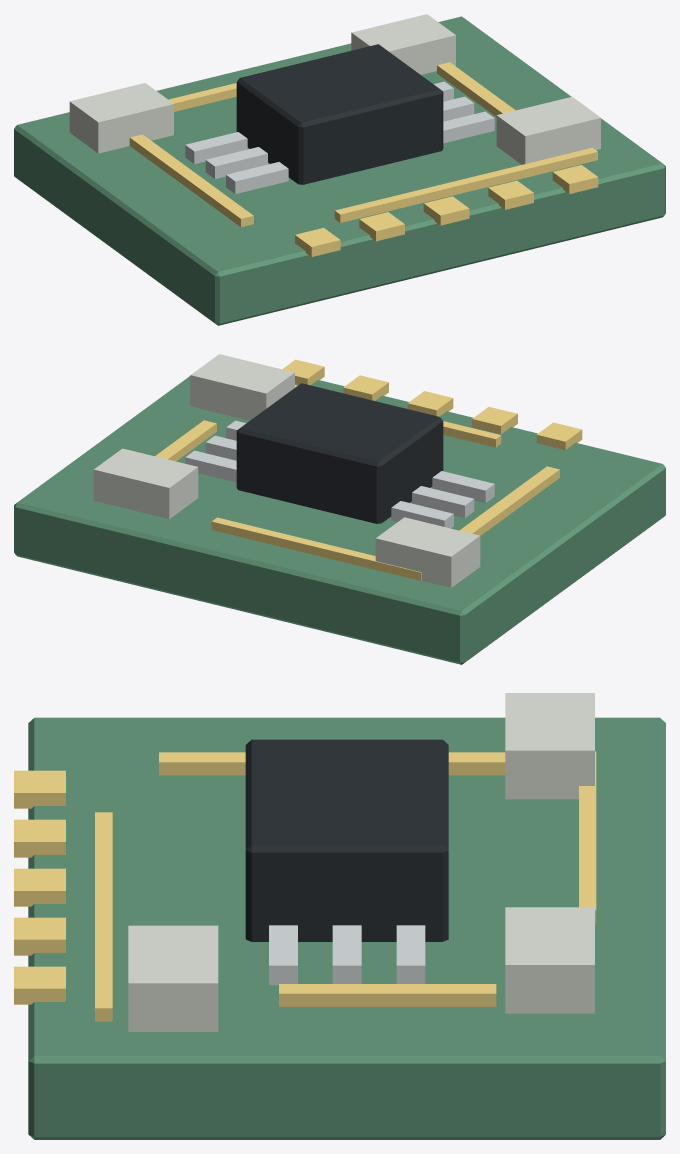
Rendered from circuits.glb.
3 views of the same model, one above another, from view 1: azimuth 30°, elevation 25°; view 2: azimuth 150°, elevation 25°; view 3: azimuth 270°, elevation 25° (orthographic). The views are drawn at different scales.
Parts seen in each view (by area): view 1: circuits / Industrial green, circuits / Rubber and recesses, circuits / Ivory polymer, circuits / Gold markings and contacts, circuits / Silver; view 2: circuits / Industrial green, circuits / Rubber and recesses, circuits / Ivory polymer, circuits / Gold markings and contacts, circuits / Silver; view 3: circuits / Industrial green, circuits / Rubber and recesses, circuits / Ivory polymer, circuits / Gold markings and contacts, circuits / Silver.
Boxes of the visible parts, box(x1,y1,x2,y2) form: circuits / Industrial green: box(14, 16, 665, 325); circuits / Rubber and recesses: box(236, 44, 443, 184); circuits / Ivory polymer: box(69, 14, 600, 164); circuits / Gold markings and contacts: box(129, 62, 598, 256); circuits / Silver: box(185, 81, 494, 193); circuits / Industrial green: box(14, 376, 665, 664); circuits / Rubber and recesses: box(236, 383, 443, 523); circuits / Ivory polymer: box(93, 354, 480, 587); circuits / Gold markings and contacts: box(155, 359, 582, 580); circuits / Silver: box(185, 420, 494, 528); circuits / Industrial green: box(28, 717, 665, 1139); circuits / Rubber and recesses: box(245, 739, 448, 941); circuits / Ivory polymer: box(128, 693, 594, 1031); circuits / Gold markings and contacts: box(14, 751, 596, 1021); circuits / Silver: box(269, 925, 425, 985).
Size of the model in its own units: 0.28 by 0.068 by 0.225.
